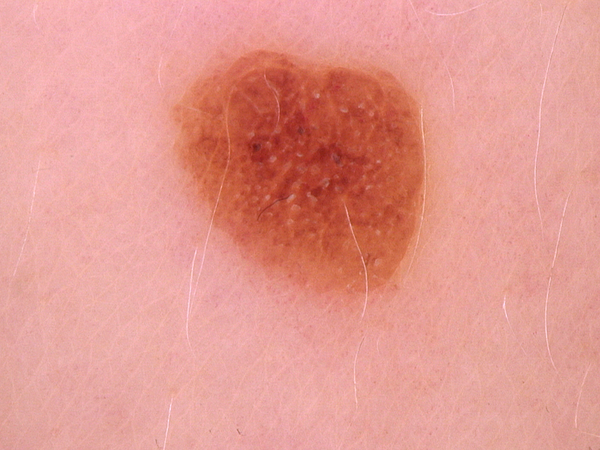Detected Lesion: (162, 43, 434, 320)
